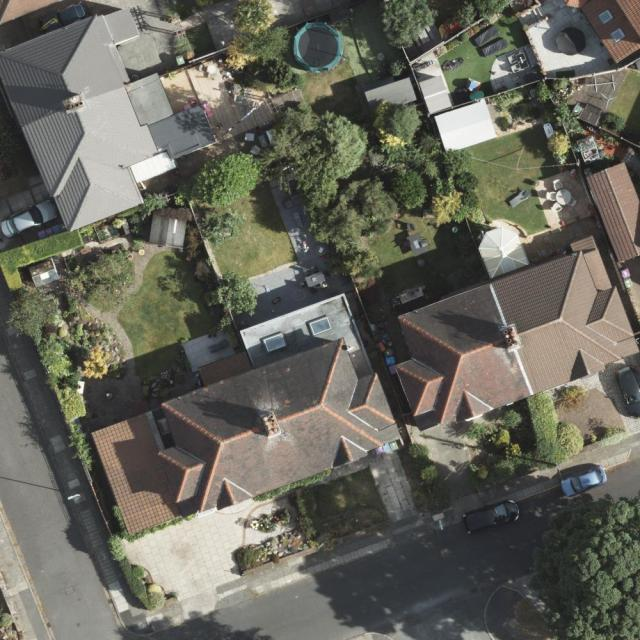roof: (90, 292, 403, 543), (395, 226, 640, 433), (0, 3, 217, 234), (585, 160, 640, 263), (562, 0, 640, 65)
skylight: (261, 332, 291, 355), (309, 315, 334, 339), (595, 9, 614, 27), (610, 26, 627, 45)
